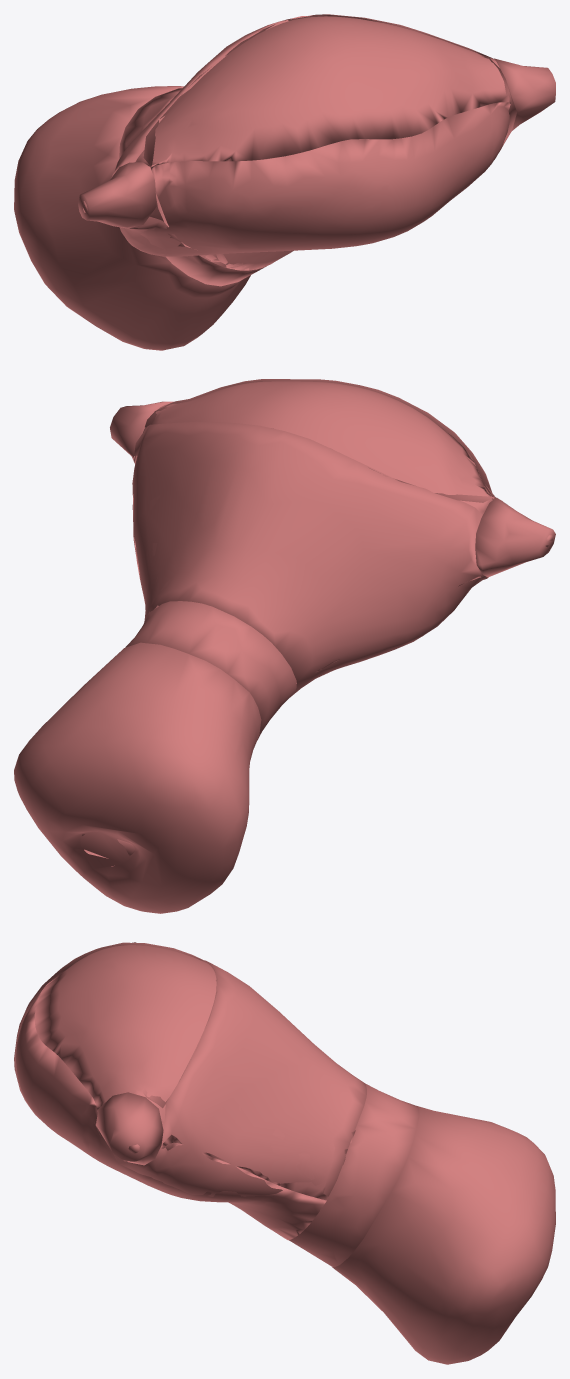
File: vh_f_uterus-20.glb
3 renders of one model, top to bottom at view 1: azimuth 30°, elevation 25°; view 2: azimuth 150°, elevation 25°; view 3: azimuth 270°, elevation 25°, orthographic. The views are drawn at different scales.
Parts seen in each view (by area): view 1: VH_F_anterior_wall_of_uterus, VH_F_posterior_wall_of_uterus, VH_F_cervix, VH_F_cornua, VH_F_body_of_uterus, VH_F_lower_uterine_segment, VH_F_fundus_of_uterus; view 2: VH_F_body_of_uterus, VH_F_cervix, VH_F_anterior_wall_of_uterus, VH_F_lower_uterine_segment, VH_F_cornua, VH_F_fundus_of_uterus; view 3: VH_F_cervix, VH_F_body_of_uterus, VH_F_anterior_wall_of_uterus, VH_F_posterior_wall_of_uterus, VH_F_lower_uterine_segment, VH_F_cornua, VH_F_fundus_of_uterus.
Boxes of the visible parts, left/top/right/bottom form: VH_F_anterior_wall_of_uterus: left=135, top=16, right=510, bottom=167; VH_F_posterior_wall_of_uterus: left=140, top=102, right=510, bottom=270; VH_F_cervix: left=14, top=86, right=250, bottom=350; VH_F_cornua: left=78, top=58, right=555, bottom=228; VH_F_body_of_uterus: left=111, top=15, right=513, bottom=270; VH_F_lower_uterine_segment: left=119, top=88, right=266, bottom=286; VH_F_fundus_of_uterus: left=143, top=14, right=516, bottom=247; VH_F_body_of_uterus: left=132, top=421, right=488, bottom=697; VH_F_cervix: left=14, top=642, right=261, bottom=913; VH_F_anterior_wall_of_uterus: left=133, top=381, right=493, bottom=683; VH_F_lower_uterine_segment: left=125, top=601, right=296, bottom=740; VH_F_cornua: left=110, top=401, right=555, bottom=577; VH_F_fundus_of_uterus: left=145, top=379, right=502, bottom=502; VH_F_cervix: left=332, top=1105, right=555, bottom=1364; VH_F_body_of_uterus: left=114, top=960, right=366, bottom=1221; VH_F_anterior_wall_of_uterus: left=34, top=945, right=355, bottom=1200; VH_F_posterior_wall_of_uterus: left=15, top=990, right=326, bottom=1240; VH_F_lower_uterine_segment: left=289, top=1084, right=419, bottom=1267; VH_F_cornua: left=96, top=942, right=163, bottom=1165; VH_F_fundus_of_uterus: left=14, top=942, right=217, bottom=1157.
Bounding box in the file's own units: 0.0525 × 0.047 × 0.0587.
